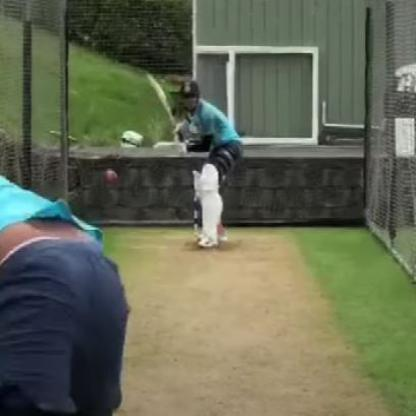ball: (100, 168, 121, 192)
